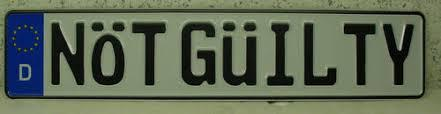G: (179, 20, 218, 87)
I: (265, 20, 295, 87)
L: (301, 21, 338, 87)
N: (50, 20, 86, 87)
T: (131, 20, 167, 87), (342, 21, 377, 88)
Y: (380, 22, 416, 87)
oe: (89, 20, 127, 87)
ue: (221, 19, 258, 88)
